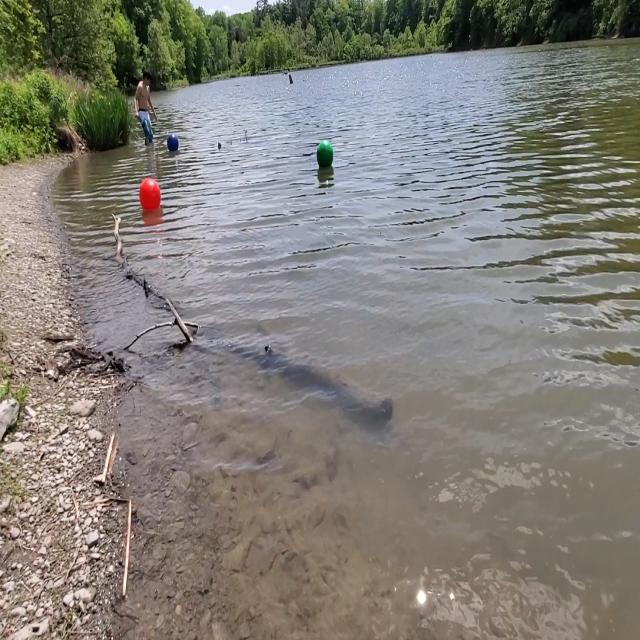buoy: (138, 173, 162, 214), (315, 136, 337, 170), (166, 130, 181, 156)
